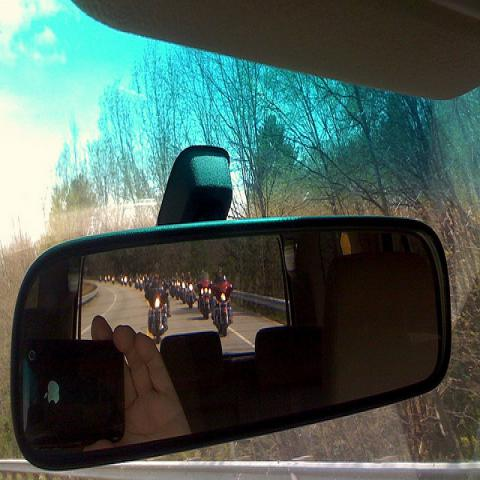motorcycle: (212, 287, 236, 335), (148, 296, 168, 342), (198, 274, 212, 320), (144, 282, 168, 304), (187, 281, 195, 309), (172, 280, 181, 301), (180, 283, 185, 305), (135, 278, 139, 290), (140, 278, 143, 292), (129, 278, 132, 287), (112, 277, 114, 284)
